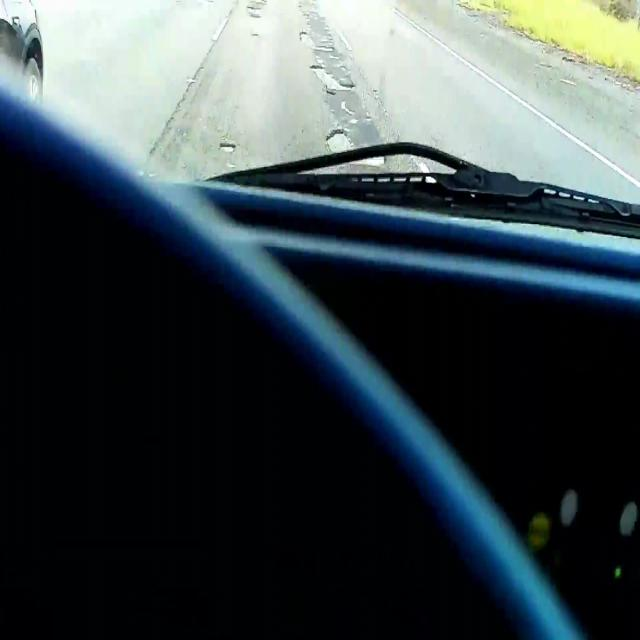Pothole: (309, 63, 355, 91), (298, 32, 334, 53), (324, 128, 354, 152), (349, 154, 389, 167), (219, 144, 236, 152)
